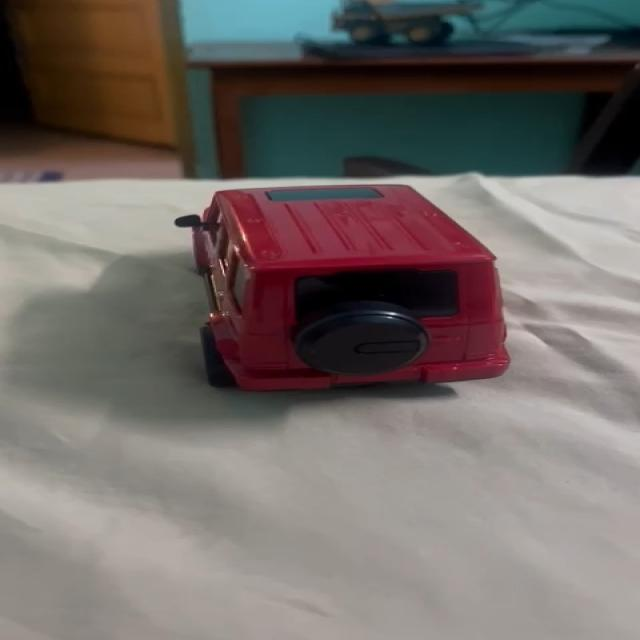light_vehicle: (170, 180, 511, 390)
